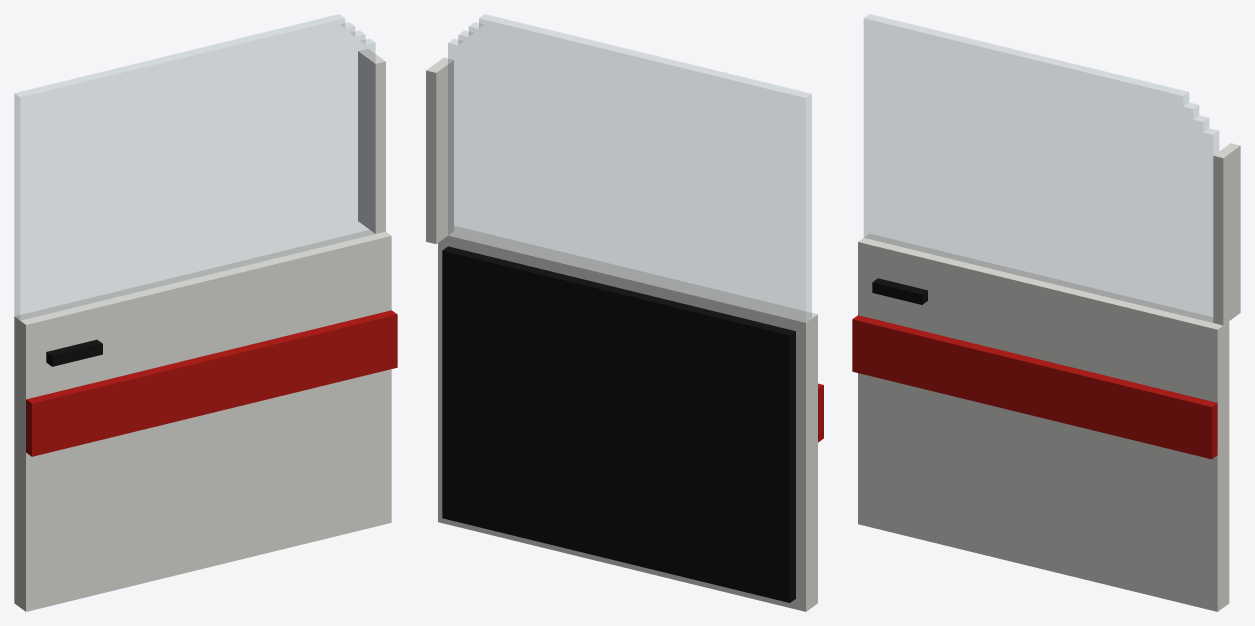
Rendered from ambulance_front_door.glb.
3 renders of one model, left to right at view 1: azimuth 30°, elevation 25°; view 2: azimuth 150°, elevation 25°; view 3: azimuth 330°, elevation 25°, orthographic. The views are drawn at different scales.
Visible parts, largest first — view 1: body:compound; view 2: body:compound; view 3: body:compound.
Part boxes in pixels (<box>): body:compound: <box>14,14,397,611</box>; body:compound: <box>426,14,823,611</box>; body:compound: <box>852,14,1240,611</box>.
Bounding box in the file's own units: 1.12 × 1.5 × 0.1562.
